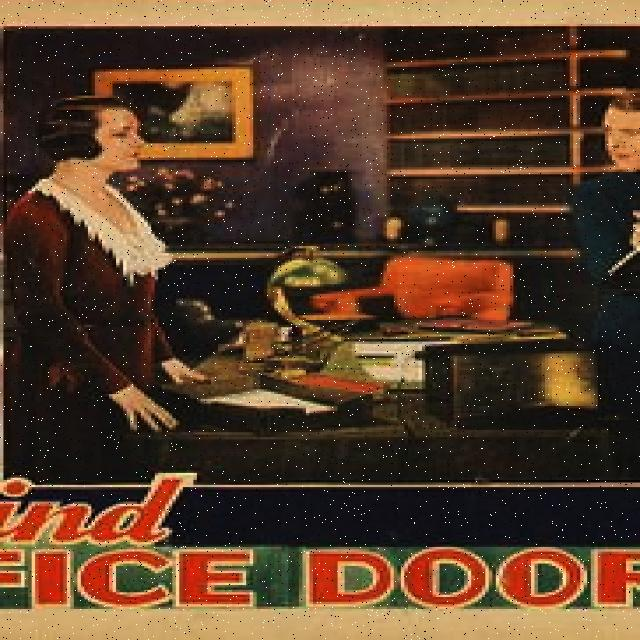movie-judul: (2, 465, 640, 620)
picture: (8, 27, 640, 473)
